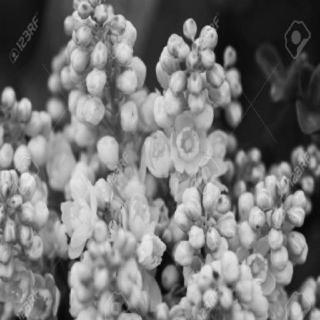other: (0, 18, 298, 312)
